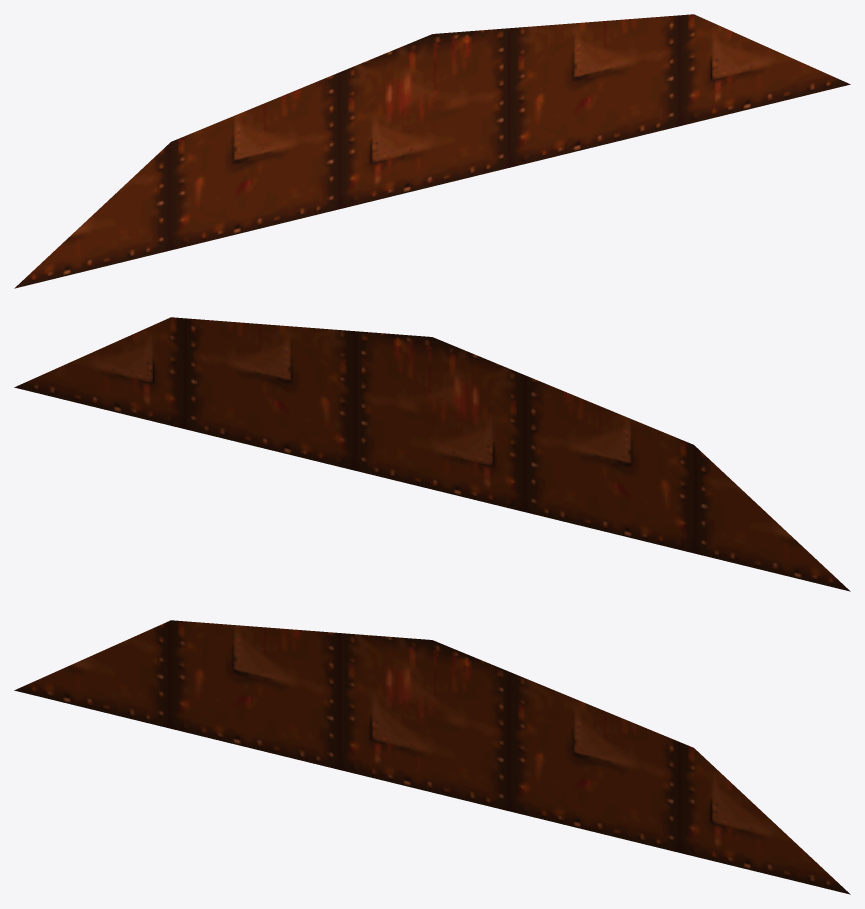
The model's file is Dach_Lagerhalle_1031.glb.
The picture shows the model from 3 angles, top to bottom: view 1: azimuth 30°, elevation 25°; view 2: azimuth 150°, elevation 25°; view 3: azimuth 330°, elevation 25°; orthographic projection.
Parts seen in each view (by area): view 1: polySurfaceShape1; view 2: polySurfaceShape1; view 3: polySurfaceShape1.
Boxes of the visible parts, x1,y1,x2,y2 form: polySurfaceShape1: [14, 14, 850, 288]; polySurfaceShape1: [14, 317, 850, 591]; polySurfaceShape1: [14, 620, 850, 894].
Bounding box in the file's own units: 3 × 0.5226 × 2.28e-08.
Materials: 1 (1 with a texture image).
